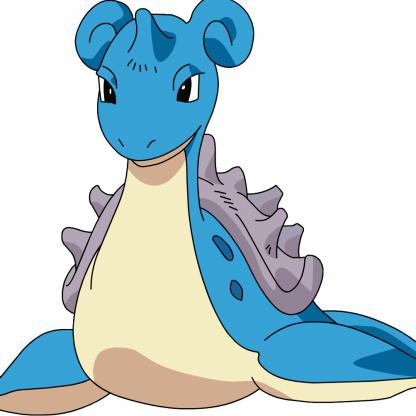Lapras: (1, 1, 416, 416)
